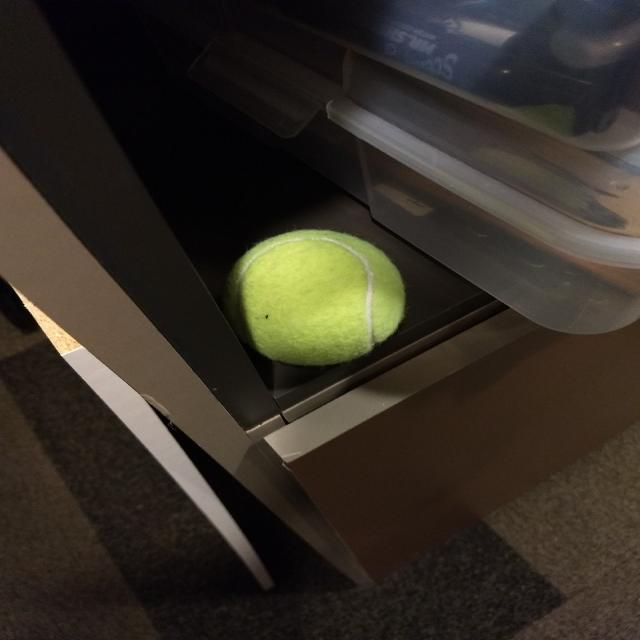Tennis-Ball: (226, 230, 415, 368)
